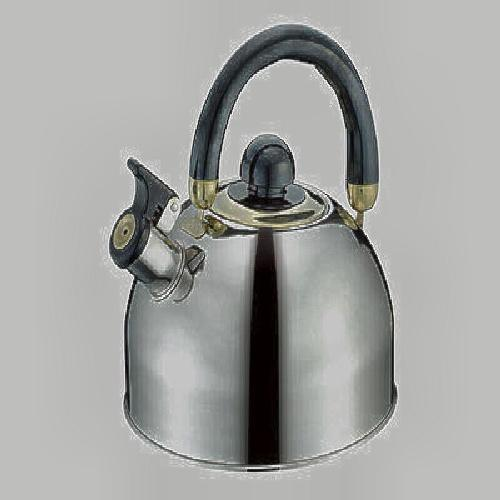kettle: (114, 31, 404, 471)
